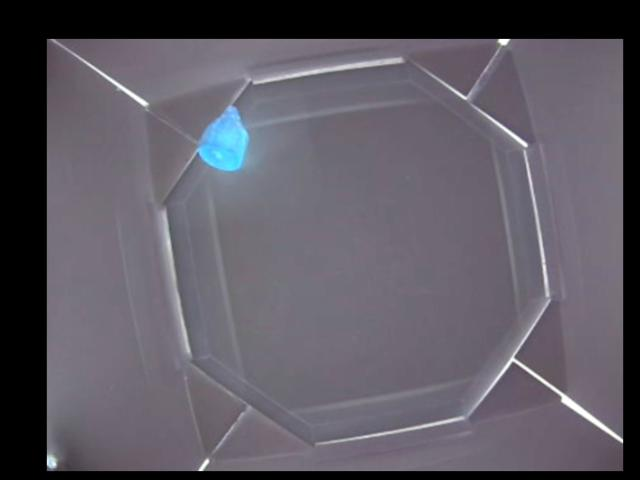Carrot: (197, 106, 248, 172)
